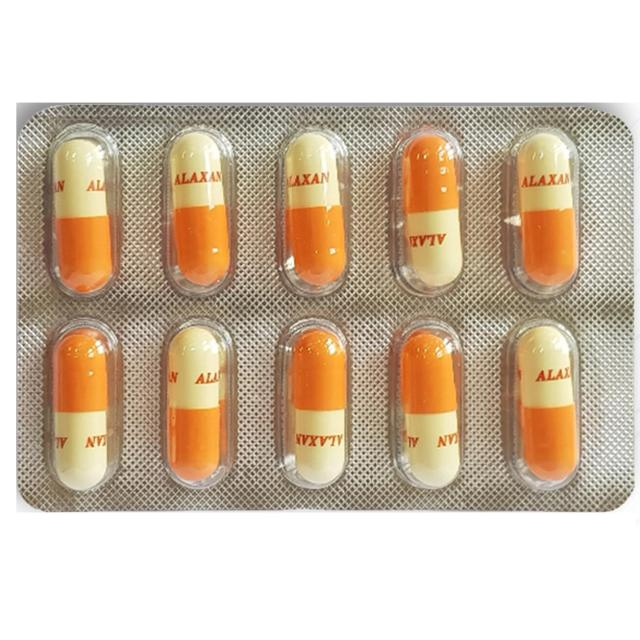blister: (10, 92, 634, 523)
